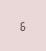six: (19, 19, 24, 31)
